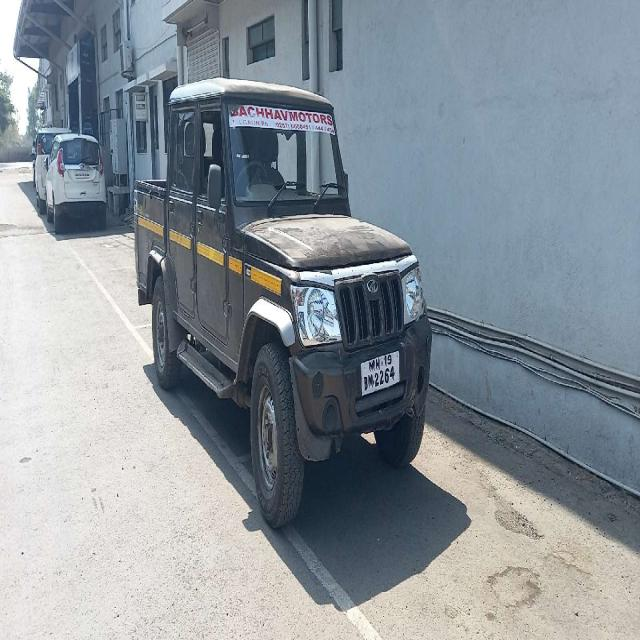light_vehicle: (128, 87, 434, 429)
